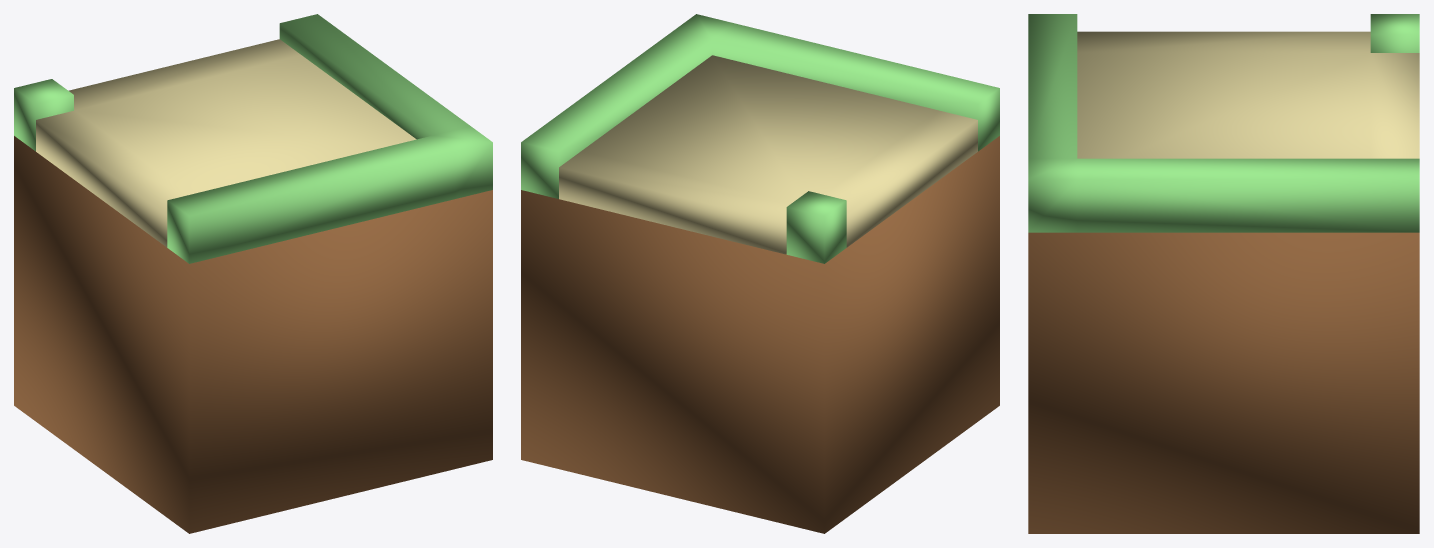
File: Path Tile - Corner- 1x1.glb
The picture shows the model from 3 angles, left to right: view 1: azimuth 30°, elevation 25°; view 2: azimuth 150°, elevation 25°; view 3: azimuth 270°, elevation 25°; orthographic projection. The views are drawn at different scales.
Parts seen in each view (by area): view 1: Path Corner - BR; view 2: Path Corner - BR; view 3: Path Corner - BR.
Boxes of the visible parts, bbox=[...] form: Path Corner - BR: bbox=[14, 14, 492, 533]; Path Corner - BR: bbox=[521, 14, 999, 533]; Path Corner - BR: bbox=[1028, 14, 1419, 533].
Bounding box in the file's own units: 2 × 2 × 2.
